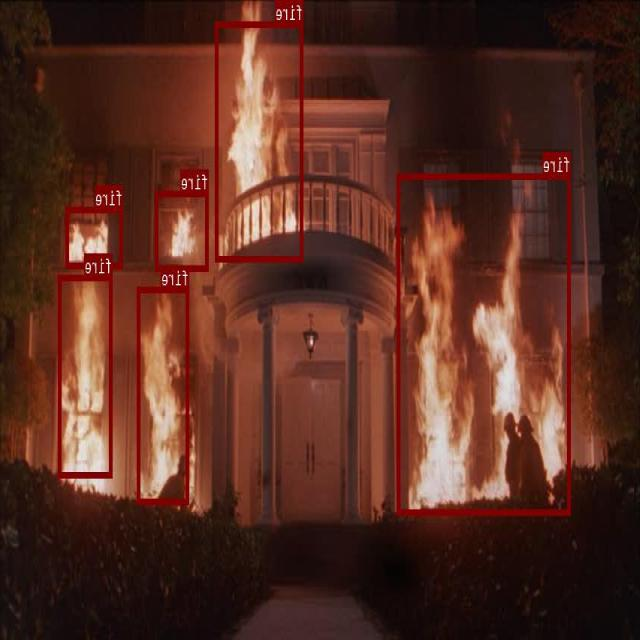fire: (397, 172, 571, 514), (216, 21, 304, 260), (138, 286, 190, 503), (59, 274, 113, 478), (156, 190, 209, 270), (66, 206, 124, 268)
